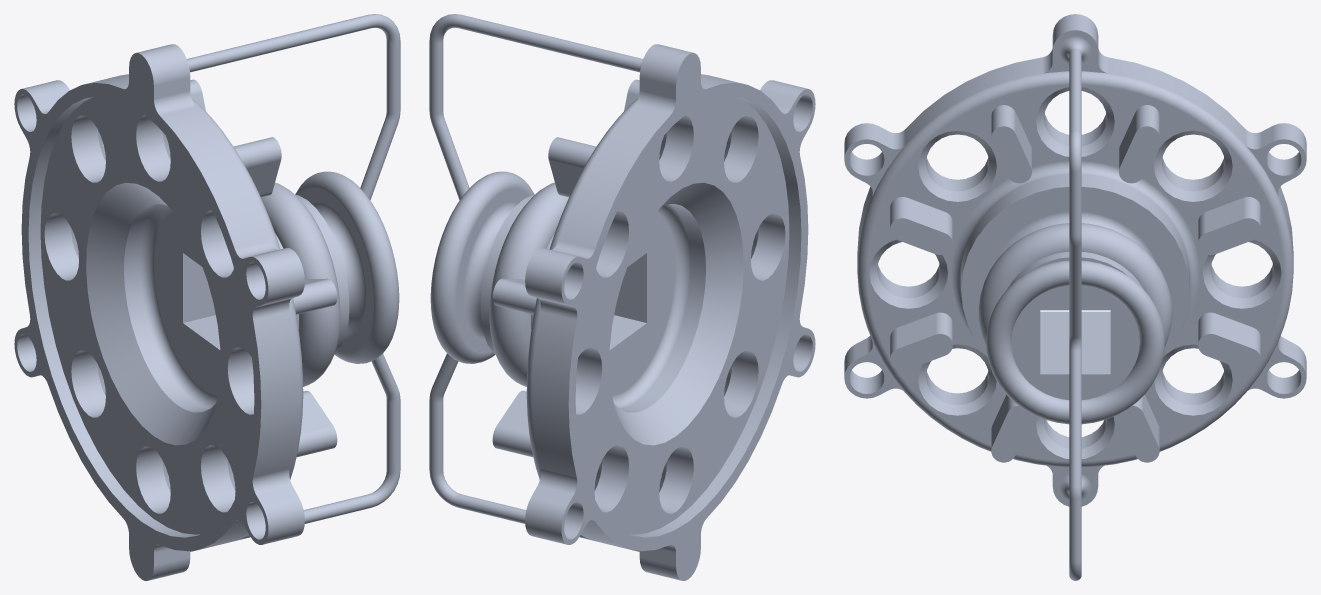
File: Otiose_End_Plate_With_Sigma_Clip.gltf
3 renders of one model, left to right at view 1: azimuth 30°, elevation 25°; view 2: azimuth 150°, elevation 25°; view 3: azimuth 270°, elevation 25°, orthographic. The views are drawn at different scales.
Visible parts, largest first — view 1: Otiose End Plate With Sigma Clip; view 2: Otiose End Plate With Sigma Clip; view 3: Otiose End Plate With Sigma Clip.
Part boxes in pixels (x1,y1,x2,y2): Otiose End Plate With Sigma Clip: [14, 14, 400, 580]; Otiose End Plate With Sigma Clip: [429, 14, 815, 580]; Otiose End Plate With Sigma Clip: [844, 14, 1306, 580].
Size of the model in its own units: 0.0684 by 0.1328 by 0.1166.
